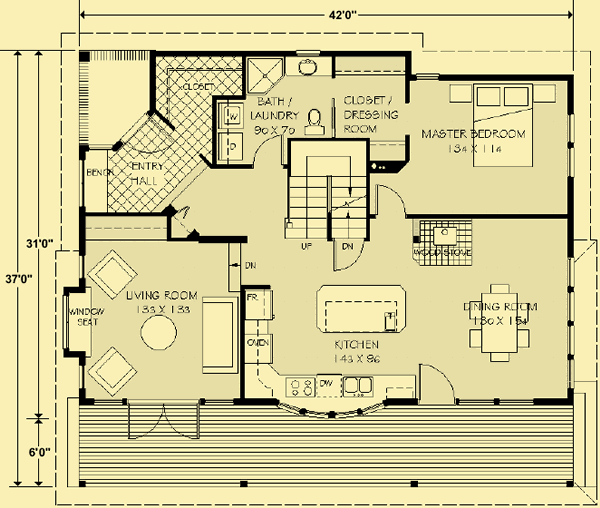bed: (470, 80, 535, 169)
dining_table: (466, 280, 534, 363)
door: (418, 361, 457, 404), (250, 134, 286, 168), (332, 240, 368, 274), (373, 184, 406, 216)
kitchen_bar: (315, 281, 408, 336)
large_sink: (298, 108, 329, 137)
large_sofa: (199, 295, 241, 375)
small_sink: (283, 57, 331, 79)
small_sofa: (85, 249, 139, 299), (87, 347, 141, 396)
stairs: (286, 137, 368, 241)
twin_sink: (341, 375, 375, 398)
window: (564, 256, 577, 390), (565, 114, 577, 180), (79, 157, 86, 209)
